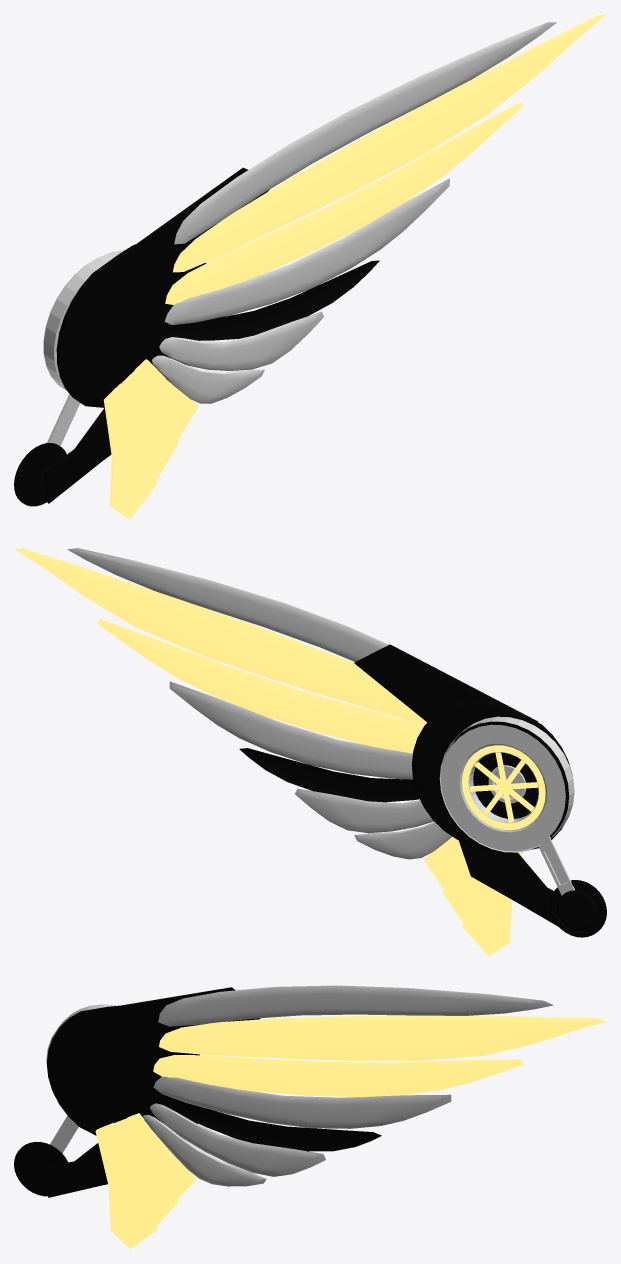
Rendered from Wing.fbx.
The picture shows the model from 3 angles, top to bottom: view 1: azimuth 30°, elevation 25°; view 2: azimuth 150°, elevation 25°; view 3: azimuth 330°, elevation 25°; orthographic projection. The views are drawn at different scales.
Visible parts, largest first — view 1: Plane.014, Plane.012, Plane.013, Circle, Plane.007, Plane.011, Plane.008, Plane.010, Plane.005, Plane.006, Plane.009, Circle.001 (+2 smaller); view 2: Plane.014, Plane.012, Circle.001, Plane.013, Plane.011, Circle, Plane.007, Plane.008, Plane.010, Plane.005, Plane.009, Circle.002 (+5 smaller); view 3: Plane.014, Plane.012, Plane.013, Circle, Plane.007, Plane.011, Plane.008, Plane.010, Plane.005, Plane.006, Plane.009, Circle.002 (+1 smaller).
Boxes of the visible parts, bbox=[...] form: Plane.014: bbox=[173, 14, 606, 272]; Plane.012: bbox=[165, 102, 522, 304]; Plane.013: bbox=[174, 22, 556, 244]; Circle: bbox=[56, 244, 205, 407]; Plane.007: bbox=[103, 359, 198, 519]; Plane.011: bbox=[164, 178, 449, 324]; Plane.008: bbox=[98, 167, 269, 326]; Plane.010: bbox=[165, 260, 379, 340]; Plane.005: bbox=[159, 311, 323, 370]; Plane.006: bbox=[152, 355, 264, 403]; Plane.009: bbox=[44, 408, 111, 503]; Circle.001: bbox=[43, 250, 124, 390]; Plane.014: bbox=[14, 548, 427, 724]; Plane.012: bbox=[97, 619, 423, 753]; Circle.001: bbox=[439, 716, 574, 852]; Plane.013: bbox=[67, 548, 388, 661]; Plane.011: bbox=[169, 681, 412, 779]; Circle: bbox=[411, 700, 572, 851]; Plane.007: bbox=[424, 836, 522, 956]; Plane.008: bbox=[354, 644, 538, 722]; Plane.010: bbox=[239, 748, 419, 802]; Plane.005: bbox=[295, 788, 433, 833]; Plane.009: bbox=[459, 840, 558, 926]; Circle.002: bbox=[550, 880, 606, 937]; Plane.014: bbox=[159, 1015, 606, 1060]; Plane.012: bbox=[153, 1055, 523, 1097]; Plane.013: bbox=[158, 985, 553, 1026]; Circle: bbox=[47, 1005, 199, 1135]; Plane.007: bbox=[95, 1113, 197, 1249]; Plane.011: bbox=[153, 1076, 451, 1128]; Plane.008: bbox=[83, 987, 260, 1077]; Plane.010: bbox=[155, 1096, 381, 1151]; Plane.005: bbox=[150, 1103, 325, 1176]; Plane.006: bbox=[143, 1115, 266, 1186]; Plane.009: bbox=[42, 1143, 107, 1197]; Circle.002: bbox=[14, 1142, 68, 1196].
Bounding box in the file's own units: 137 × 77.11 × 16.46.
